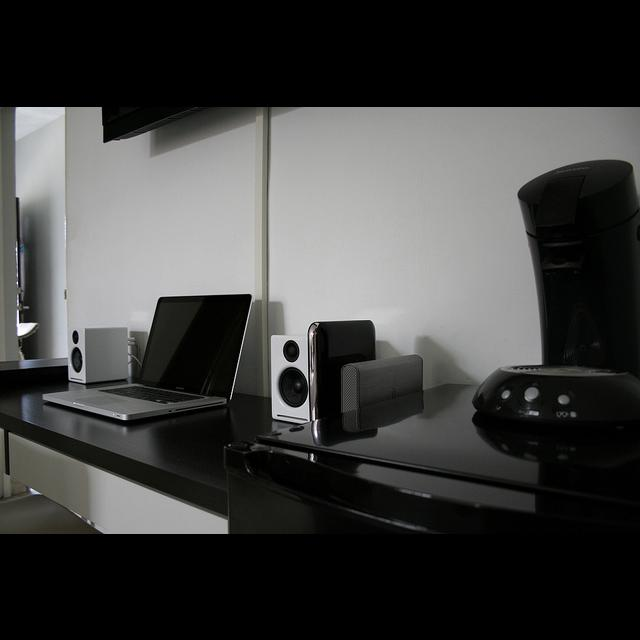Laptop: (42, 291, 253, 422)
